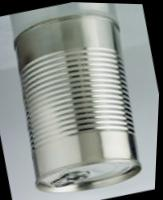metal: (0, 3, 161, 199)
